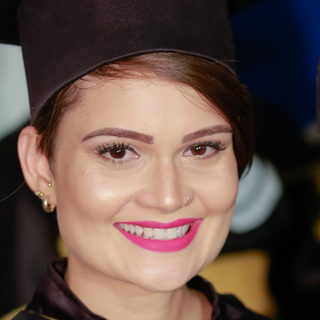eye: (93, 140, 143, 165), (179, 138, 225, 163)
